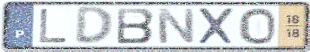B: (116, 7, 156, 45)
D: (73, 5, 115, 47)
L: (37, 8, 70, 44)
N: (156, 7, 197, 45)
O: (237, 7, 277, 46)
X: (196, 6, 236, 46)
